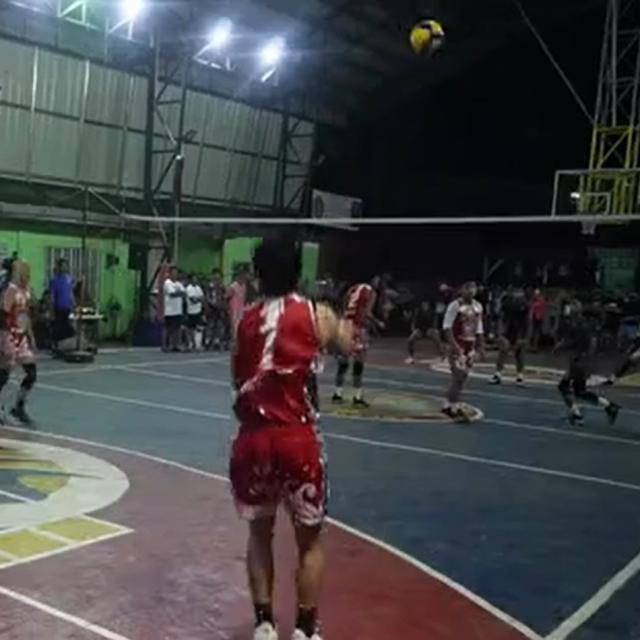volleyball: (409, 20, 445, 58)
